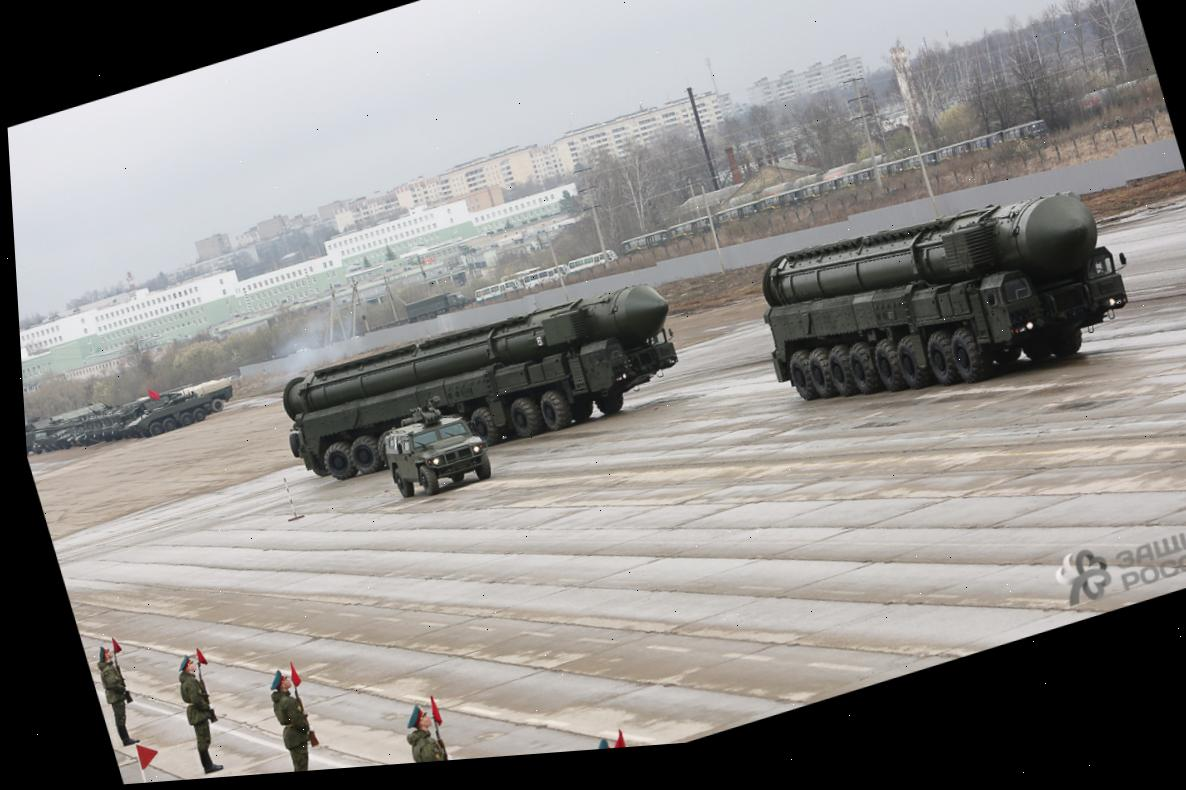armored_car: (370, 397, 494, 512)
